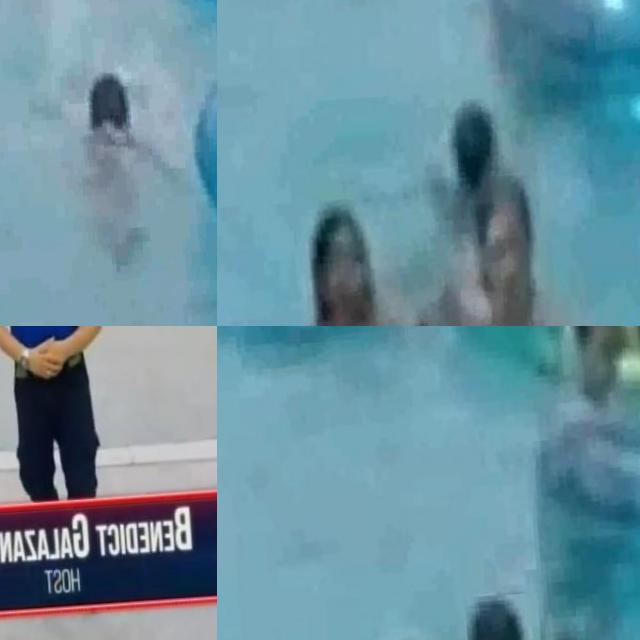drowning: (17, 28, 195, 240), (420, 84, 503, 201), (463, 592, 545, 640)
out of water: (0, 326, 129, 506)
swimming: (294, 202, 388, 326), (469, 197, 543, 326), (557, 326, 640, 415), (388, 269, 470, 326)
